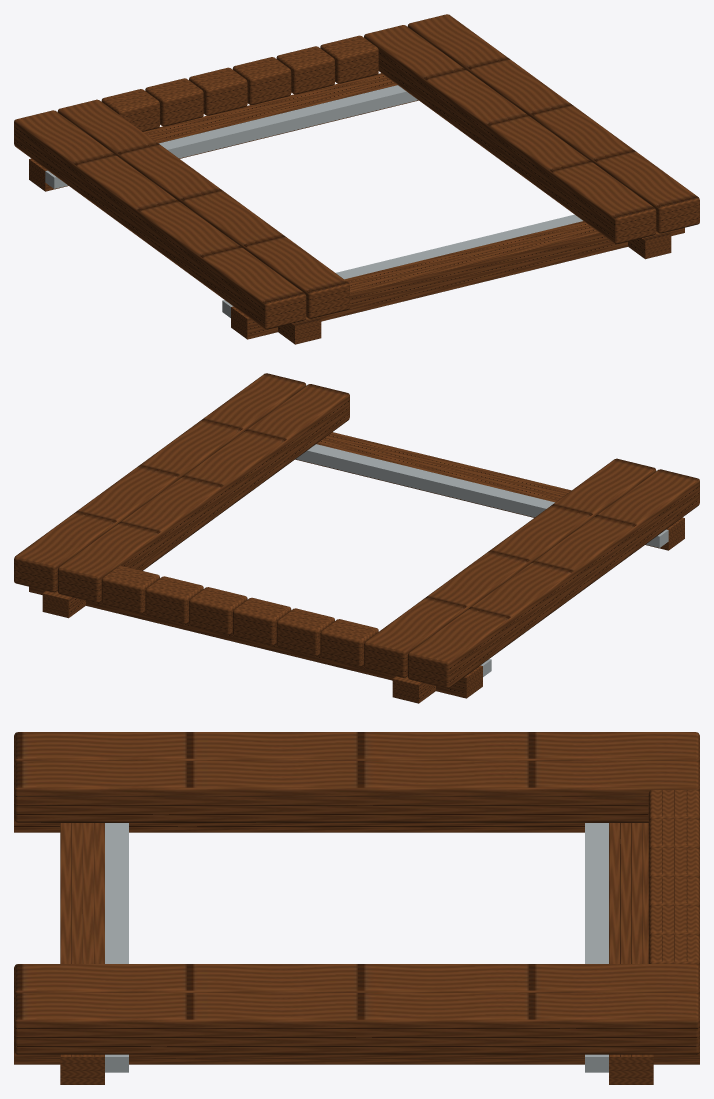
File: modular-survival-base-builder-floor-stairwell-frame-re-3488b30c__24281.glb
3 renders of one model, top to bottom at view 1: azimuth 30°, elevation 25°; view 2: azimuth 150°, elevation 25°; view 3: azimuth 270°, elevation 25°, orthographic. The views are drawn at different scales.
Visible parts, largest first — view 1: floor-stairwell-frame-reinforced; view 2: floor-stairwell-frame-reinforced; view 3: floor-stairwell-frame-reinforced.
Part boxes in pixels (box(x1,y1,x2,y2)): floor-stairwell-frame-reinforced: box(14, 14, 699, 344); floor-stairwell-frame-reinforced: box(14, 373, 699, 703); floor-stairwell-frame-reinforced: box(14, 732, 699, 1084).
Size of the model in its own units: 2 by 0.21 by 2.
Materials: 2 (1 with a texture image).
